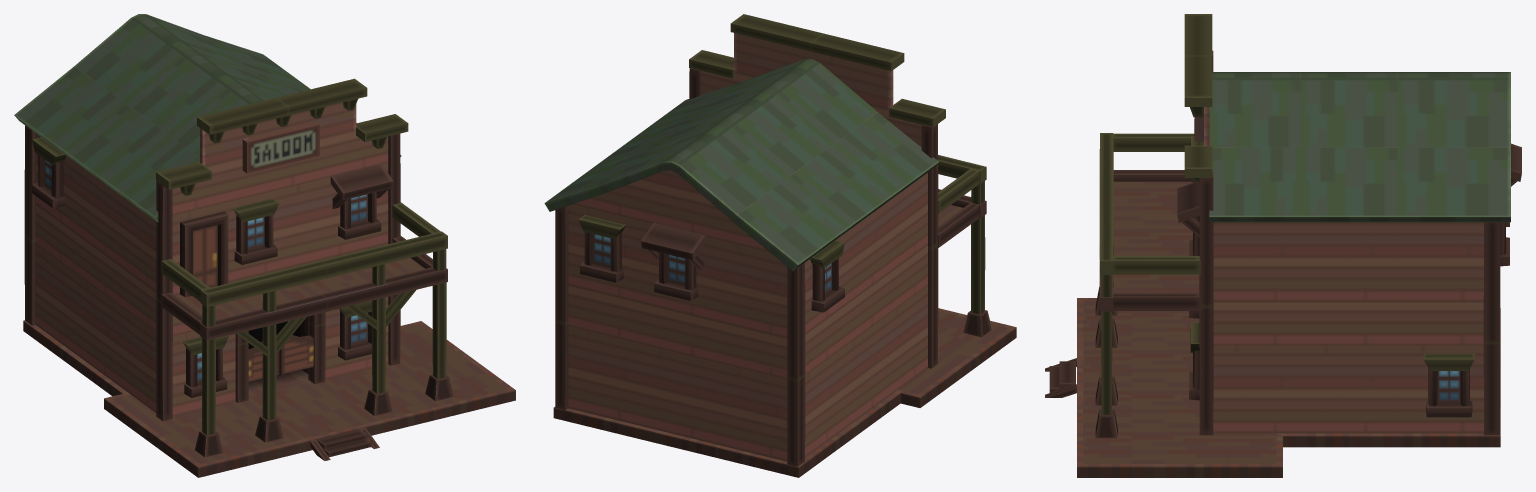
File: house_v3_014.fbx
3 renders of one model, left to right at view 1: azimuth 30°, elevation 25°; view 2: azimuth 150°, elevation 25°; view 3: azimuth 270°, elevation 25°, orthographic. The views are drawn at different scales.
Parts seen in each view (by area): view 1: house_v3_014; view 2: house_v3_014; view 3: house_v3_014.
Part boxes in pixels (x1=…): house_v3_014: x1=14, y1=14, x2=515, y2=477; house_v3_014: x1=544, y1=14, x2=1016, y2=477; house_v3_014: x1=1045, y1=14, x2=1521, y2=477.
Size of the model in its own units: 826 by 747 by 986.
